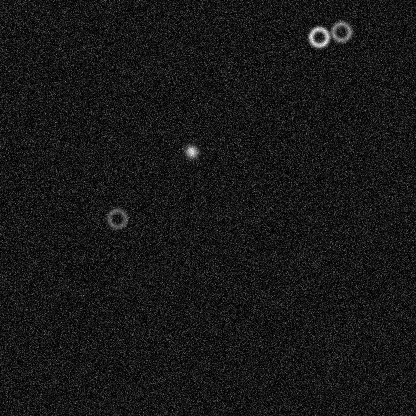Ring: (306, 24, 330, 48), (329, 19, 353, 43), (104, 206, 128, 230)
Spot: (183, 143, 199, 159)
